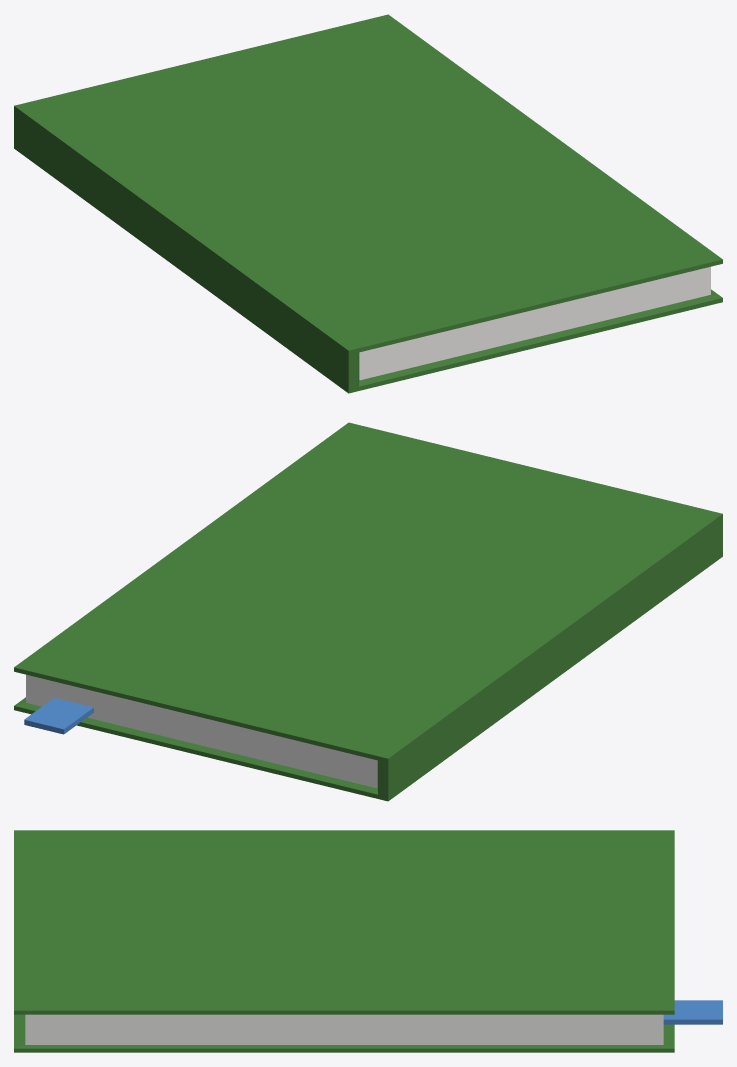
File: Book_1.fbx
3 renders of one model, top to bottom at view 1: azimuth 30°, elevation 25°; view 2: azimuth 150°, elevation 25°; view 3: azimuth 270°, elevation 25°, orthographic.
Parts seen in each view (by area): view 1: Book_1; view 2: Book_1; view 3: Book_1.
Boxes of the visible parts, bbox=[...] form: Book_1: bbox=[14, 14, 722, 393]; Book_1: bbox=[14, 422, 722, 801]; Book_1: bbox=[14, 830, 722, 1052].
Bounding box in the file's own units: 21.46 × 35.66 × 2.34.
